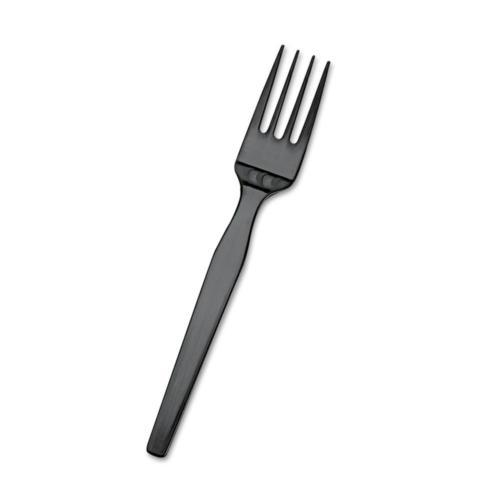Fork: (146, 44, 330, 458)
